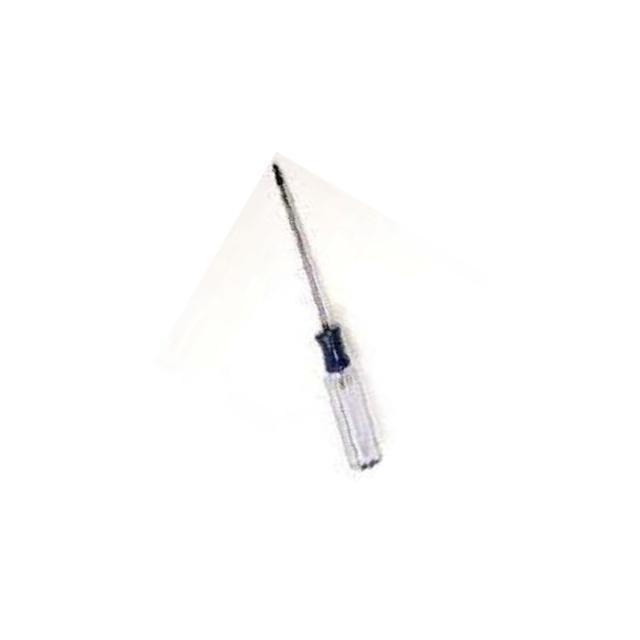screwdriver: (155, 158, 485, 482)
